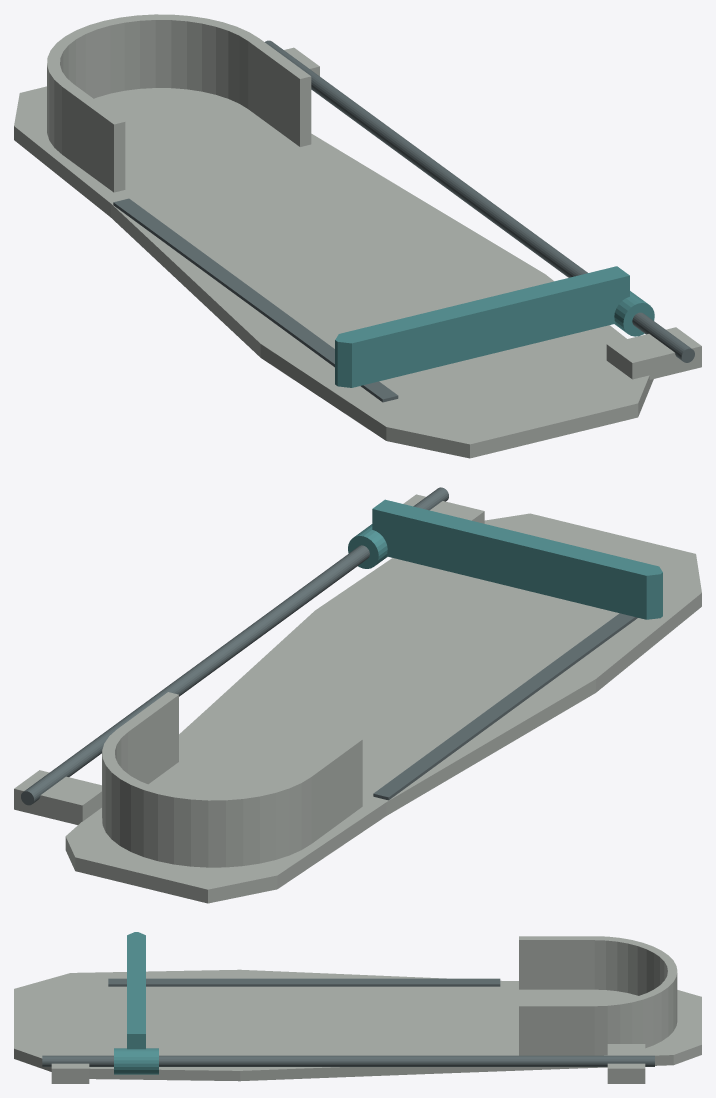
3 views of the same model, one above another, from view 1: azimuth 30°, elevation 25°; view 2: azimuth 150°, elevation 25°; view 3: azimuth 270°, elevation 25° (orthographic). The views are drawn at different scales.
Parts seen in each view (by area): view 1: WholeAsymmetricFootPlate, WholeOpenFrontCurvedHeelCup, WholeTransverseUprightToeStop, WholeLongitudinalSideGuideRail, WholeBlankSideIndexStrip, WholeRootedSideRailBracket_1, WholeThroughRailFixedCarriage; view 2: WholeAsymmetricFootPlate, WholeOpenFrontCurvedHeelCup, WholeTransverseUprightToeStop, WholeLongitudinalSideGuideRail, WholeBlankSideIndexStrip, WholeRootedSideRailBracket_2, WholeThroughRailFixedCarriage, WholeRootedSideRailBracket_1; view 3: WholeAsymmetricFootPlate, WholeOpenFrontCurvedHeelCup, WholeLongitudinalSideGuideRail, WholeBlankSideIndexStrip, WholeTransverseUprightToeStop, WholeRootedSideRailBracket_1, WholeRootedSideRailBracket_2, WholeThroughRailFixedCarriage.
Part boxes in pixels (<box>): WholeAsymmetricFootPlate: <box>14,86,653,458</box>; WholeOpenFrontCurvedHeelCup: <box>47,14,311,192</box>; WholeTransverseUprightToeStop: <box>335,266,629,387</box>; WholeLongitudinalSideGuideRail: <box>265,40,694,362</box>; WholeBlankSideIndexStrip: <box>113,198,398,402</box>; WholeRootedSideRailBracket_1: <box>606,327,701,379</box>; WholeThroughRailFixedCarriage: <box>614,291,654,336</box>; WholeAsymmetricFootPlate: <box>65,513,701,903</box>; WholeOpenFrontCurvedHeelCup: <box>102,692,362,867</box>; WholeTransverseUprightToeStop: <box>372,499,662,619</box>; WholeLongitudinalSideGuideRail: <box>21,487,448,805</box>; WholeBlankSideIndexStrip: <box>373,613,637,800</box>; WholeRootedSideRailBracket_2: <box>14,770,101,824</box>; WholeThroughRailFixedCarriage: <box>348,524,387,568</box>; WholeRootedSideRailBracket_1: <box>403,494,484,523</box>; WholeAsymmetricFootPlate: <box>14,969,701,1081</box>; WholeOpenFrontCurvedHeelCup: <box>519,936,677,1055</box>; WholeLongitudinalSideGuideRail: <box>42,1055,654,1066</box>; WholeBlankSideIndexStrip: <box>108,978,500,986</box>; WholeTransverseUprightToeStop: <box>127,932,145,1049</box>; WholeRootedSideRailBracket_1: <box>51,1044,89,1083</box>; WholeRootedSideRailBracket_2: <box>607,1044,645,1083</box>; WholeThroughRailFixedCarriage: <box>114,1048,158,1074</box>.
Size of the model in its own units: 0.139 by 0.035 by 0.365.
